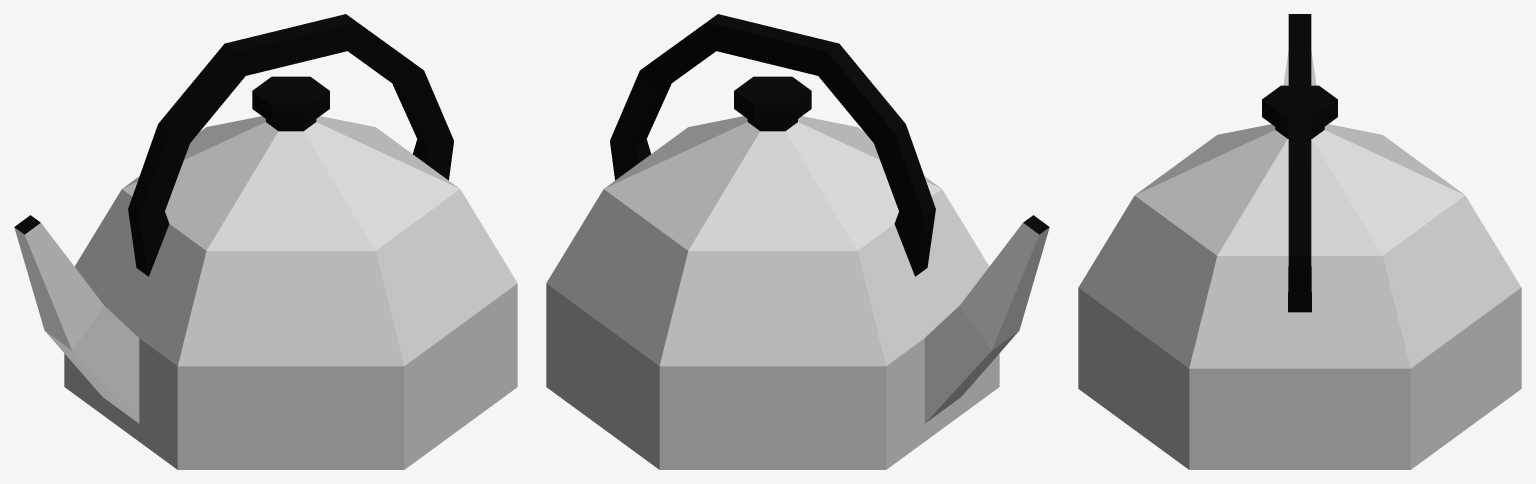
The model's file is kettle4_PLY.fbx.
The picture shows the model from 3 angles, left to right: view 1: azimuth 30°, elevation 25°; view 2: azimuth 150°, elevation 25°; view 3: azimuth 270°, elevation 25°; orthographic projection. The views are drawn at different scales.
Parts seen in each view (by area): view 1: kettle4_PLY; view 2: kettle4_PLY; view 3: kettle4_PLY.
Part boxes in pixels (box(x1,y1,x2,y2)): kettle4_PLY: box(14, 14, 517, 469); kettle4_PLY: box(546, 14, 1049, 469); kettle4_PLY: box(1078, 14, 1521, 469).
Size of the model in its own units: 0.9745 by 0.7462 by 0.8663.
